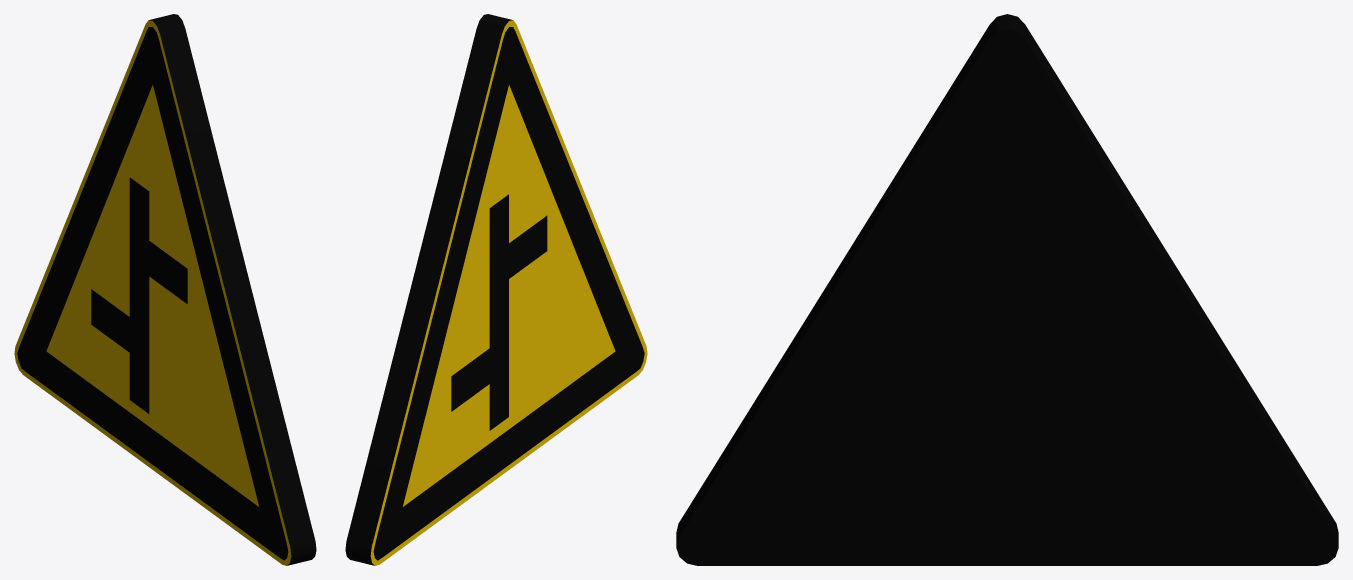
Rendered from Ten_Crossing-2.fbx.
3 views of the same model, side by side, from view 1: azimuth 30°, elevation 25°; view 2: azimuth 150°, elevation 25°; view 3: azimuth 270°, elevation 25° (orthographic). The views are drawn at different scales.
Visible parts, largest first — view 1: Ten_Crossing_2; view 2: Ten_Crossing_2; view 3: Ten_Crossing_2.
Part boxes in pixels (bbox=[...]): Ten_Crossing_2: bbox=[14, 14, 316, 565]; Ten_Crossing_2: bbox=[345, 14, 647, 565]; Ten_Crossing_2: bbox=[676, 14, 1338, 565].
Bounding box in the file's own units: 0.0643 × 1.02 × 1.14.
